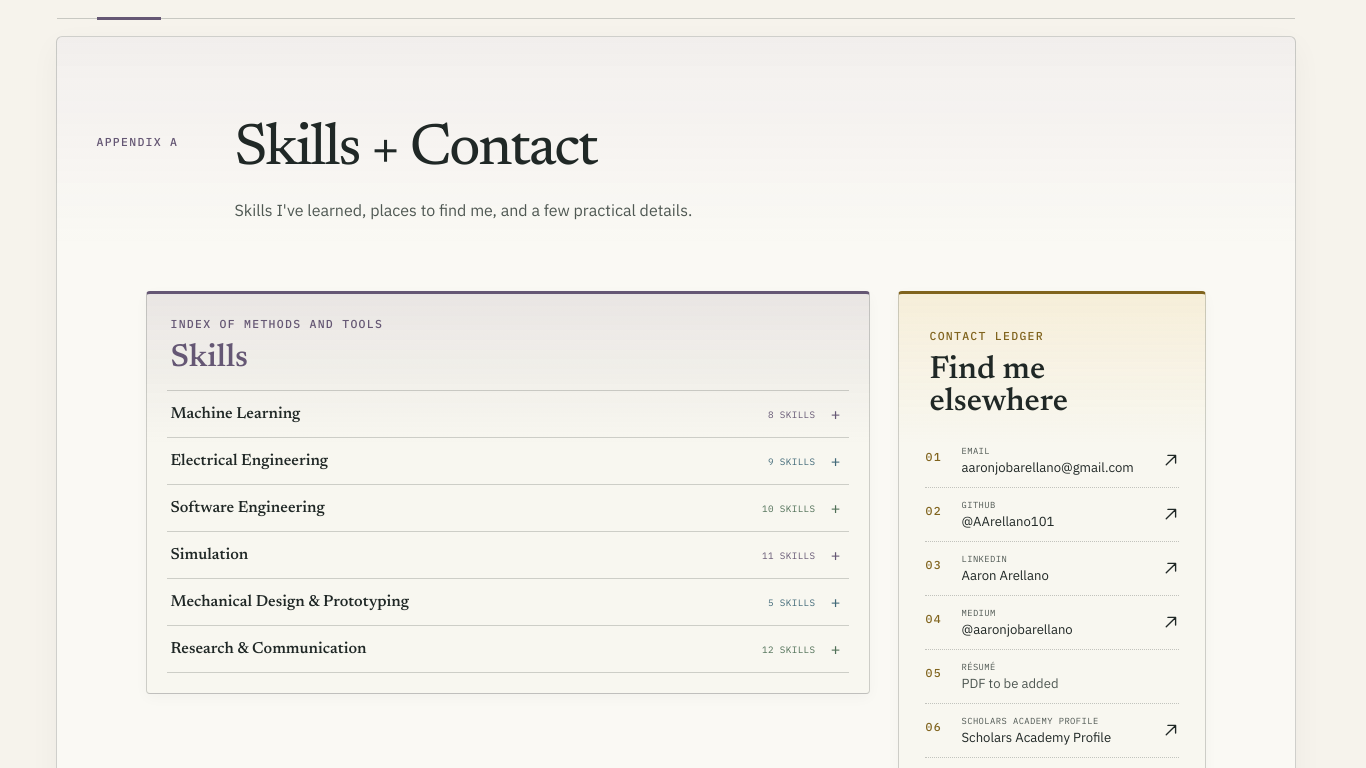
Test: notebook content and interactions › keeps the concise skills index closed until a category is requested
Expected: the text "PyTorch" is not shown
Click the text "Machine Learning" at x=235, y=414, box x1=170 y1=406 x2=300 y2=422
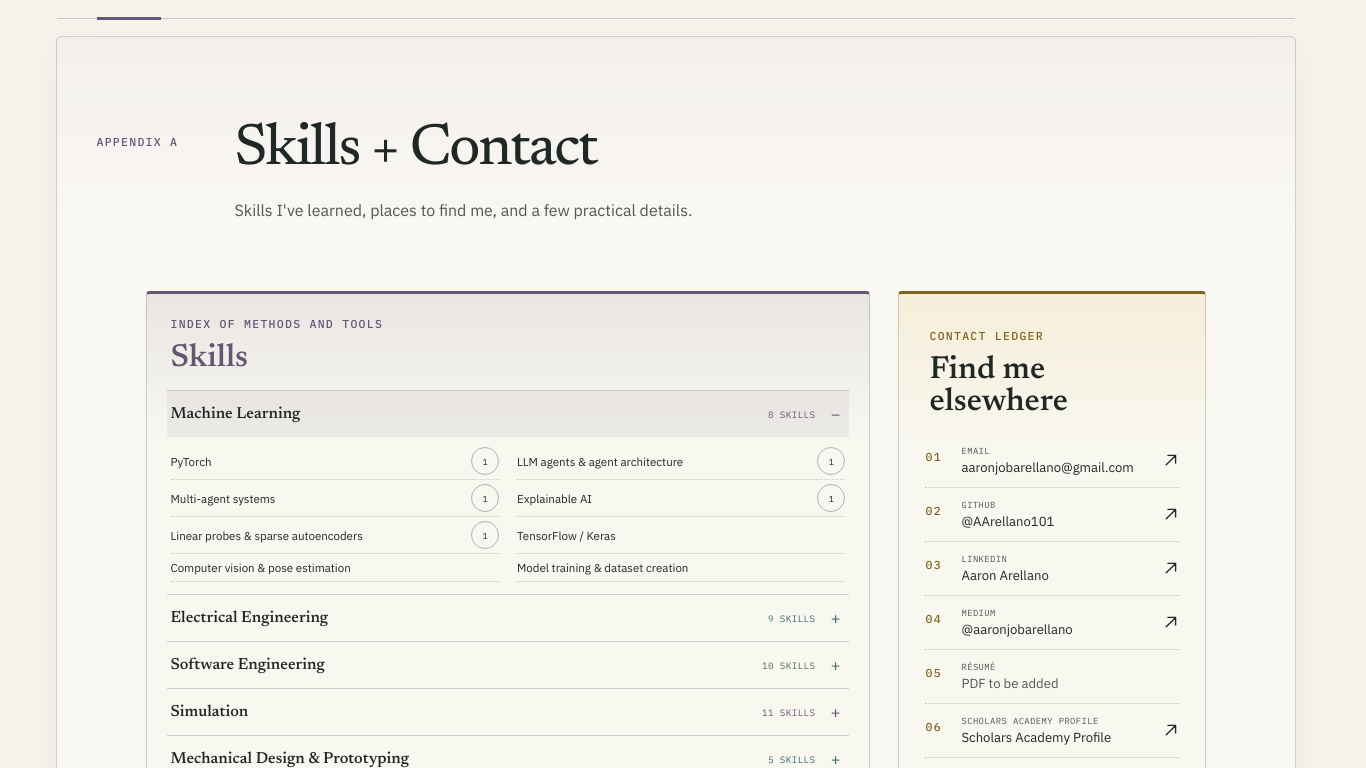
Result: the text "PyTorch" is shown at x1=170 y1=454 x2=212 y2=469
